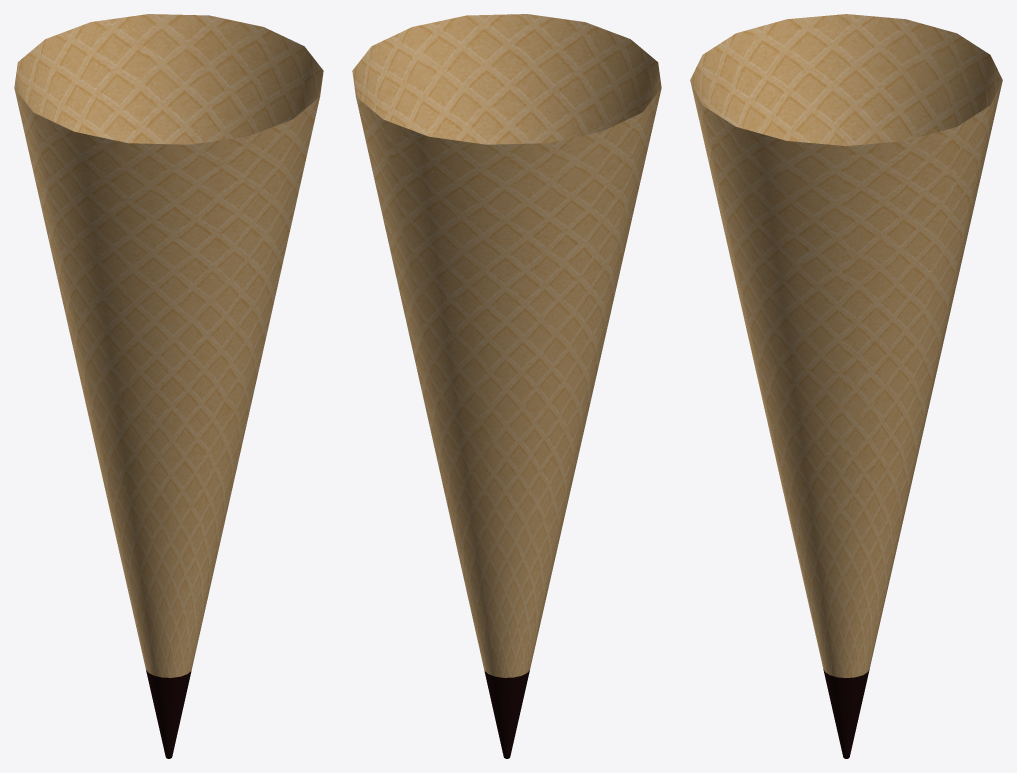
3 renders of one model, left to right at view 1: azimuth 30°, elevation 25°; view 2: azimuth 150°, elevation 25°; view 3: azimuth 270°, elevation 25°, orthographic.
Visible parts, largest first — view 1: Cone001; view 2: Cone001; view 3: Cone001.
Part boxes in pixels (x1,y1,x2,y2): Cone001: (14, 14, 323, 758); Cone001: (352, 14, 661, 758); Cone001: (690, 14, 1002, 758).
Size of the model in its own units: 35.42 by 84.78 by 35.42.
Materials: 2 (1 with a texture image).
